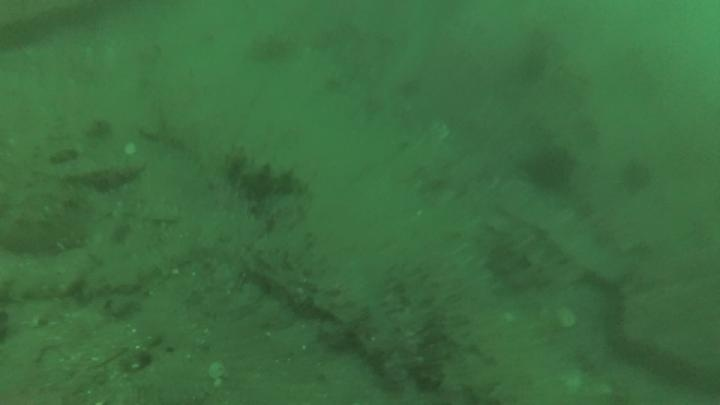echinus: (523, 145, 576, 193), (617, 158, 655, 197)
holothurian: (222, 144, 310, 203), (1, 208, 93, 258), (1, 262, 91, 305)
